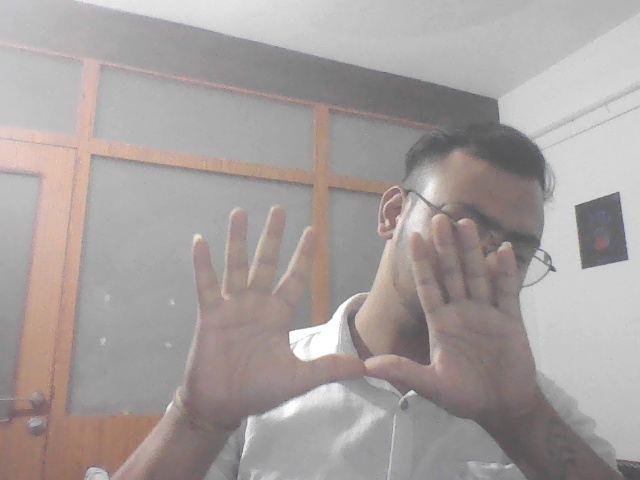Cheers: (174, 201, 543, 436)
